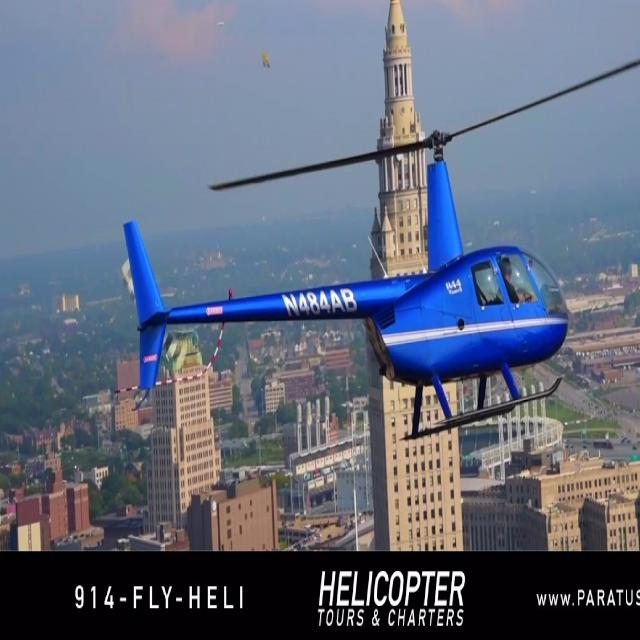helicopter: (122, 41, 640, 441)
